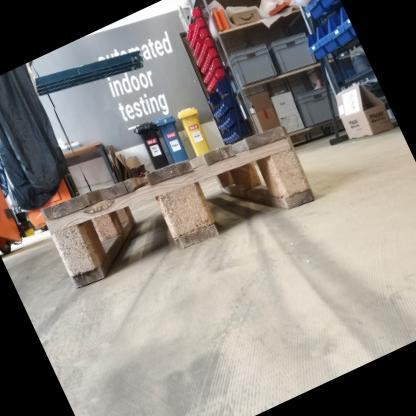BoxFace: (34, 115, 323, 298)
